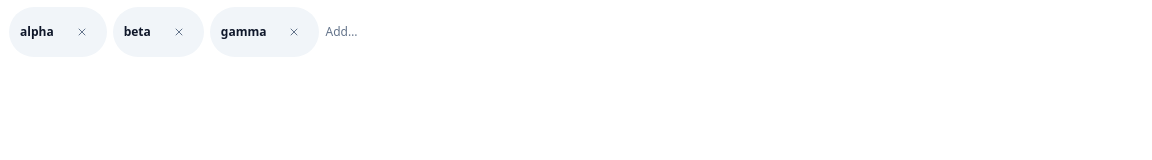
Test: InlineChipEditor › adds a chip to local state on Enter and clears the input
The width and height of the screenshot is (1152, 160).
Type "delta" into the field named "Add Tags" at (734, 32), box [326,24,1143,40]
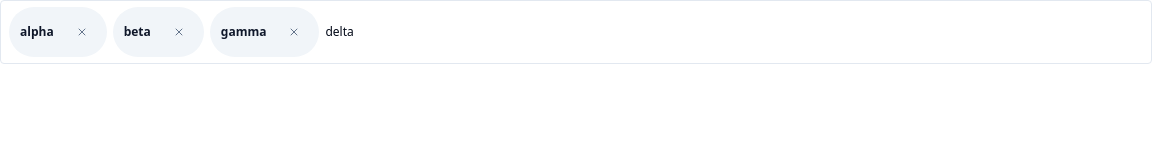
Press Enter
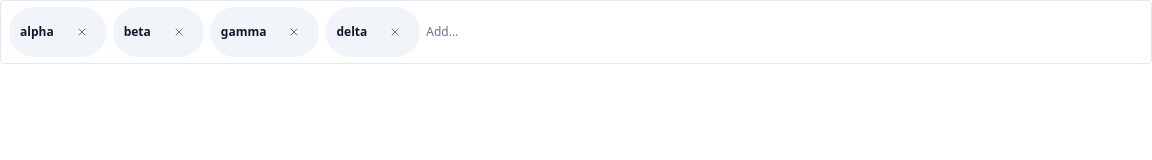
Now the text "delta" is shown, box [336,24,367,40]
Now the field named "Add Tags" is empty, box [426,24,1143,40]
